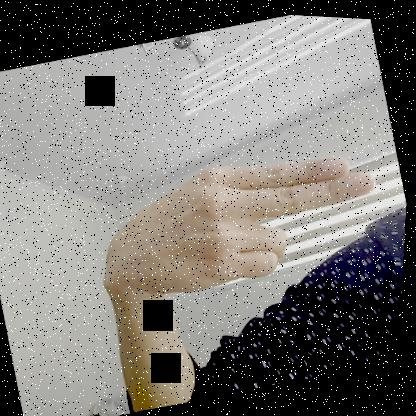H: (81, 120, 397, 318)
